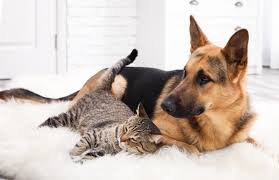cat: (46, 52, 166, 160)
dog: (111, 14, 265, 124)
